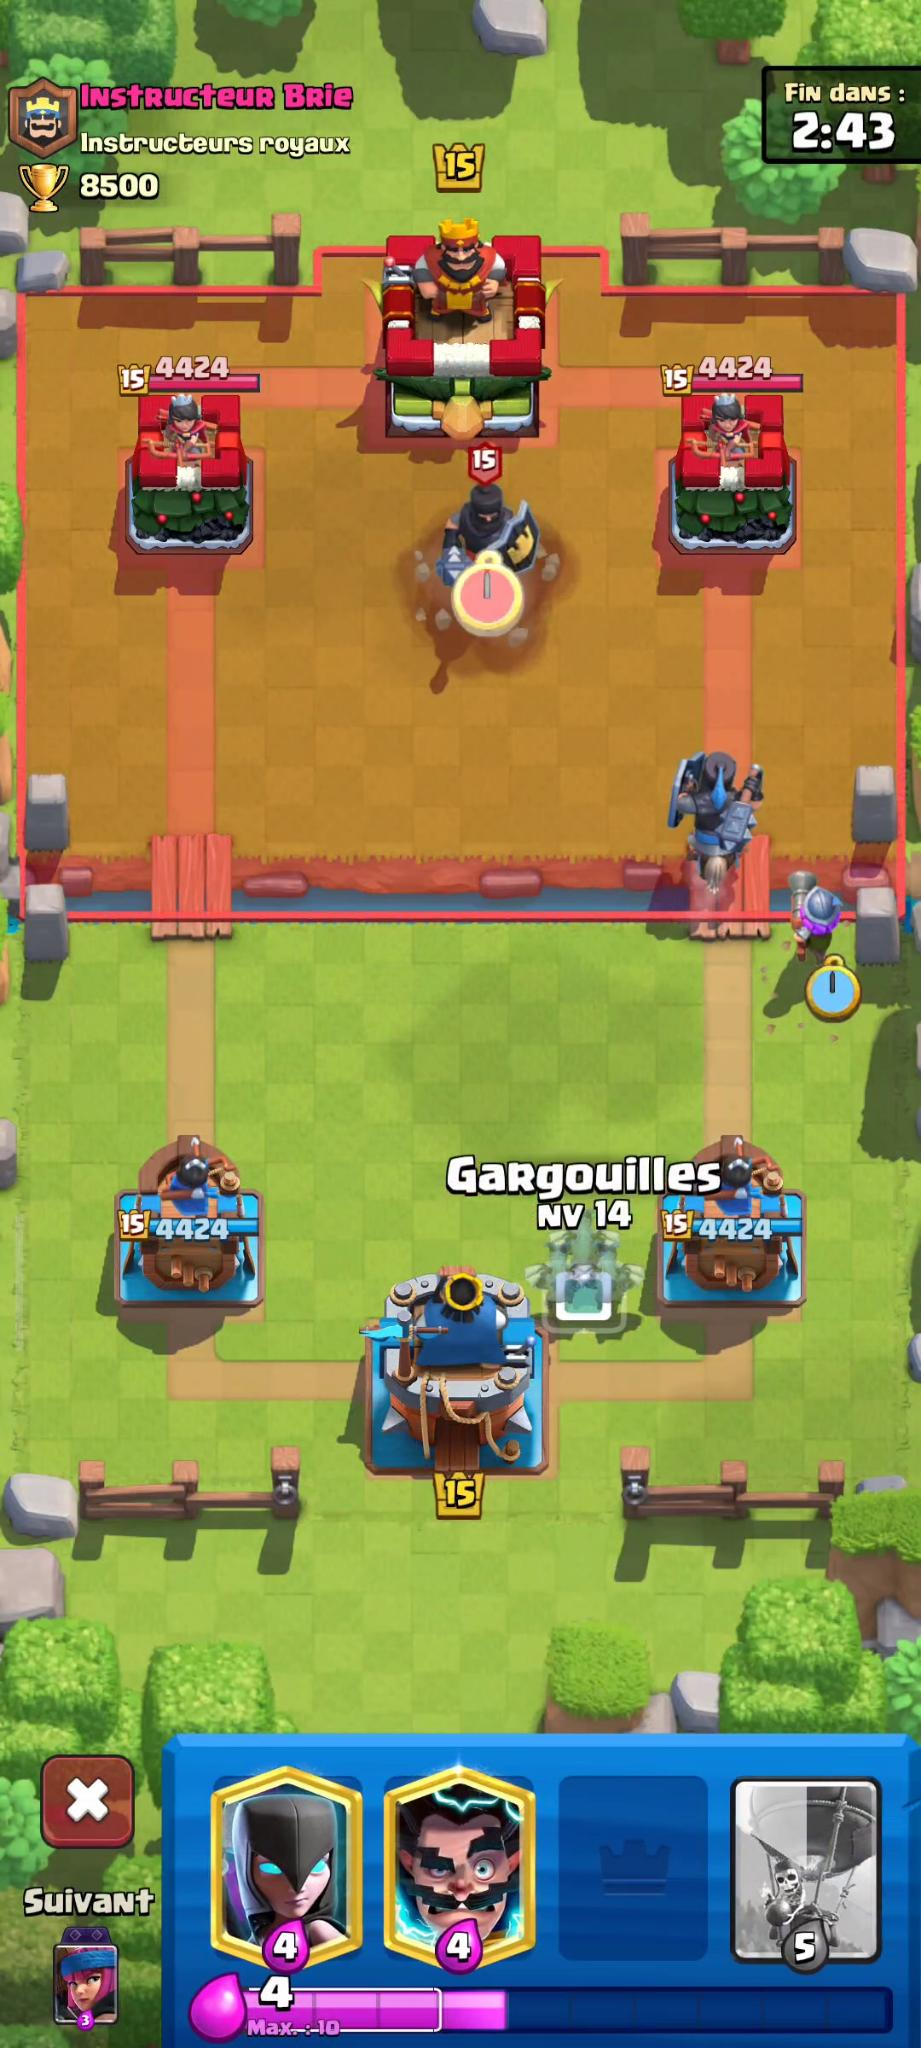gargouille: (580, 1251, 645, 1323), (555, 1200, 623, 1268), (524, 1249, 589, 1319)
mousquetaire: (785, 862, 853, 976)
